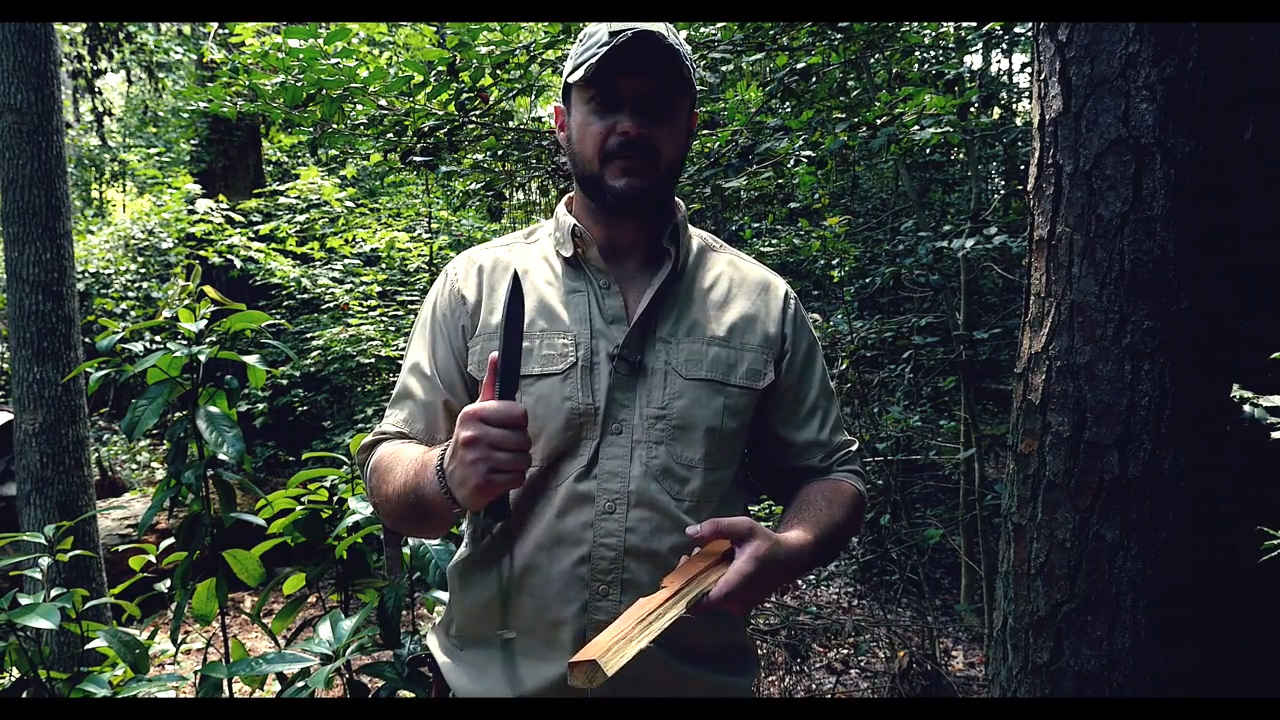knife: (457, 263, 539, 471)
